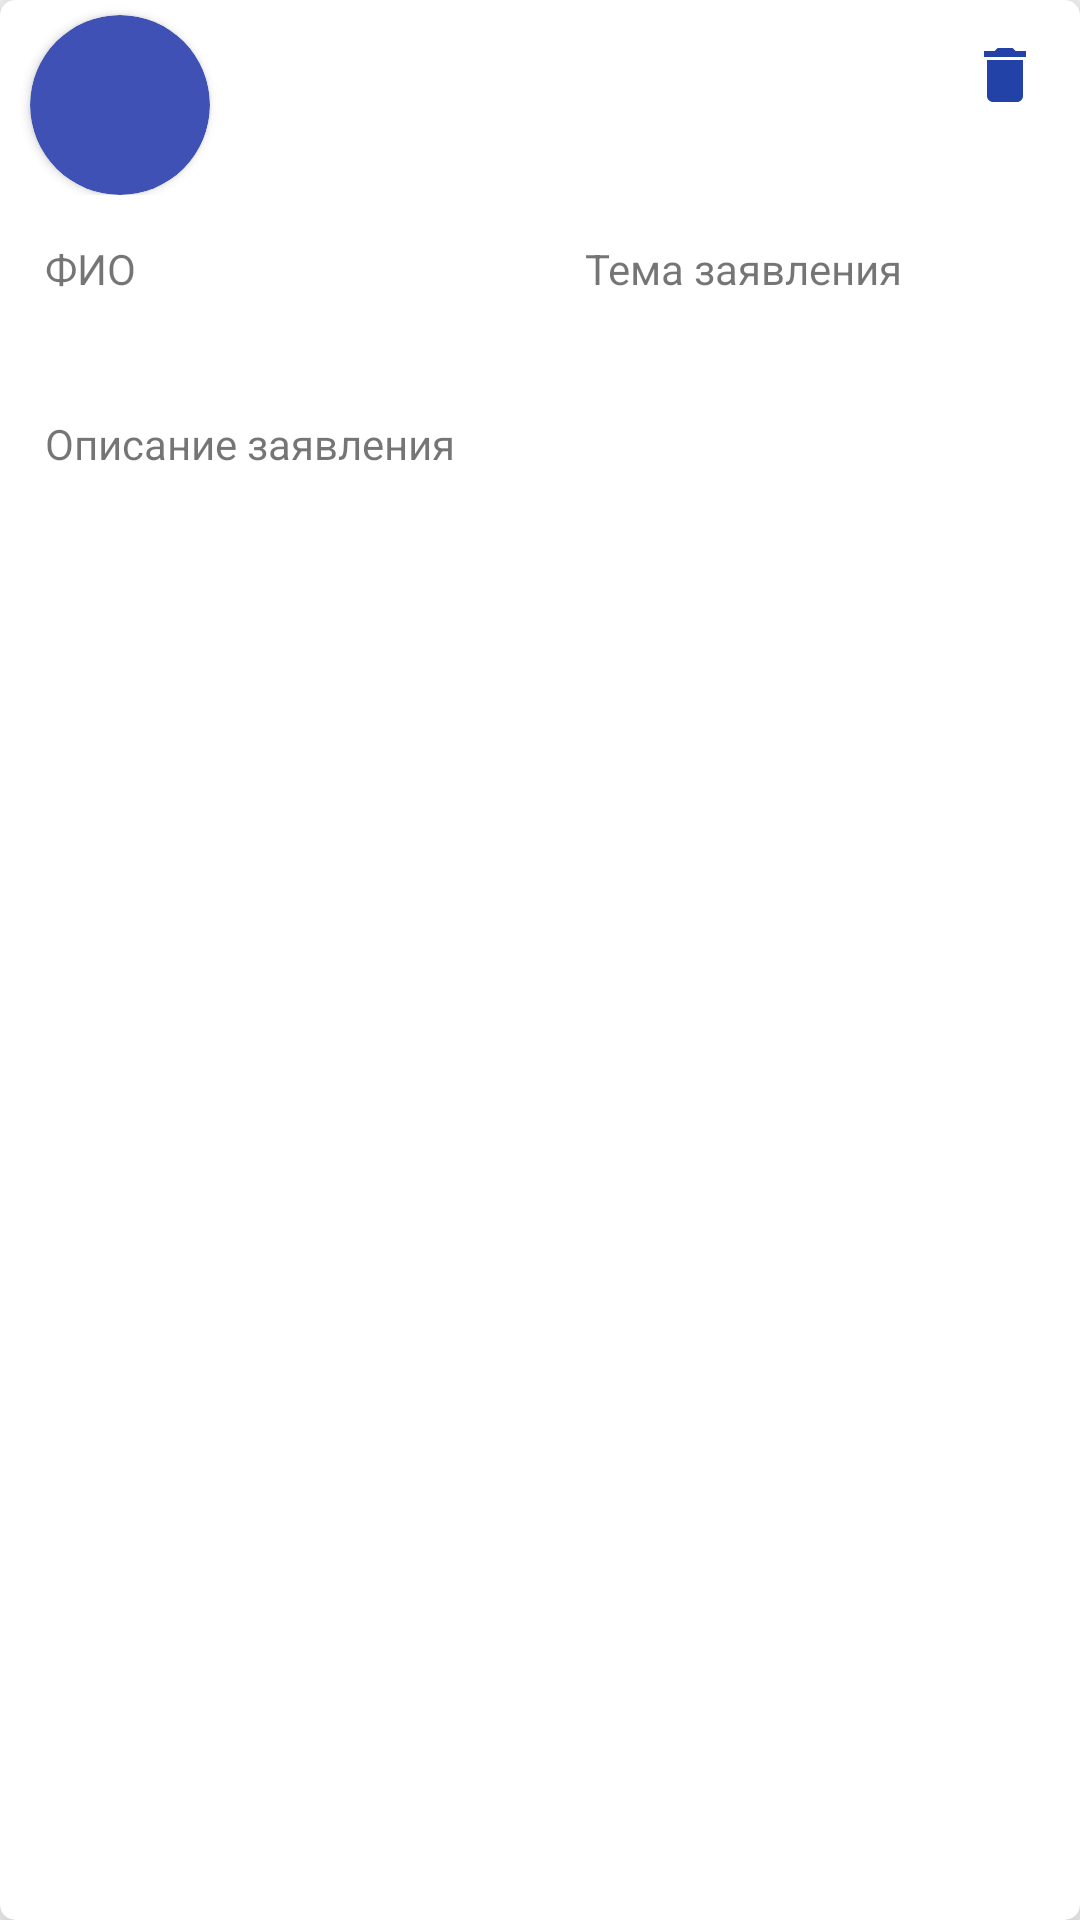

Named icons in this screenshot (1080×1920) and their bounding boxes, [left=x1, top=y1, right=x2, bottom=y2]:
delete: [left=984, top=48, right=1026, bottom=102]
